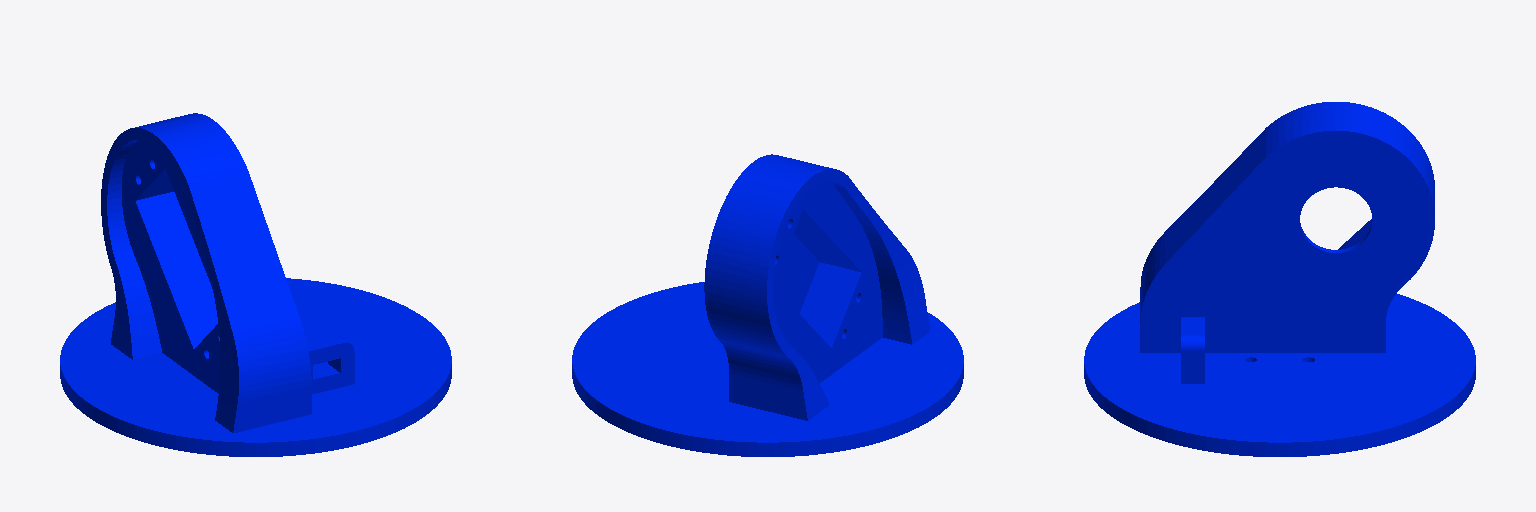
File: waist_arm_obj.obj
3 views of the same model, side by side, from view 1: azimuth 30°, elevation 25°; view 2: azimuth 150°, elevation 25°; view 3: azimuth 270°, elevation 25° (orthographic).
Parts seen in each view (by area): view 1: fabconvert.com_waist; view 2: fabconvert.com_waist; view 3: fabconvert.com_waist.
Part boxes in pixels (x1,y1,x2,y2): fabconvert.com_waist: (60,113,451,456); fabconvert.com_waist: (572,154,963,456); fabconvert.com_waist: (1084,102,1475,456).
Size of the model in its own units: 1.11 by 0.7419 by 1.11.